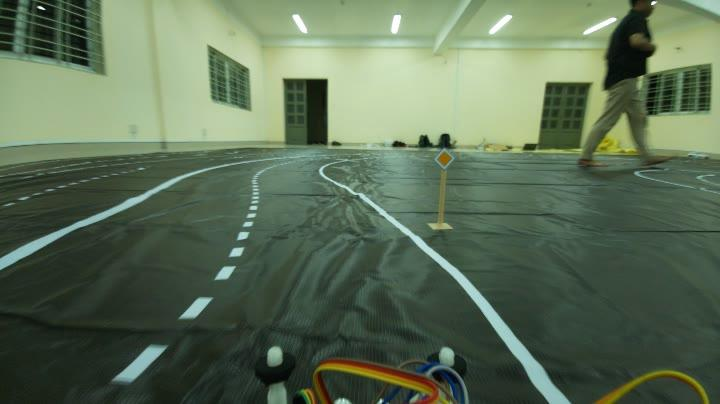priority: (432, 143, 458, 171)
